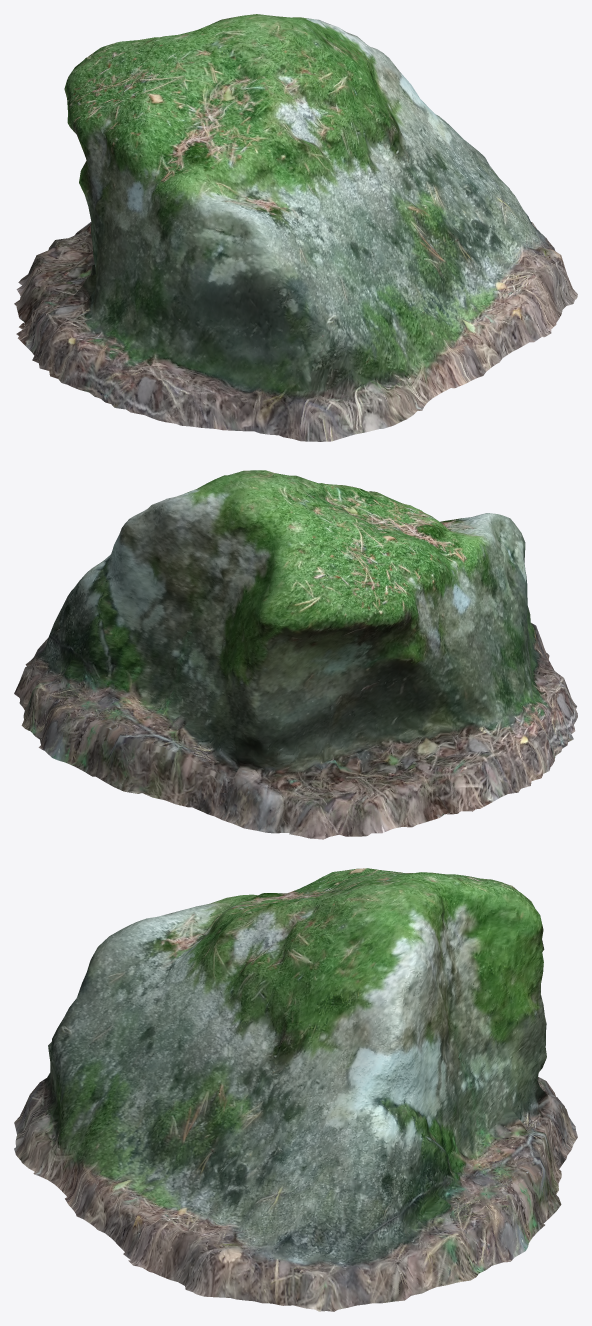
The model's file is rock.fbx.
3 renders of one model, top to bottom at view 1: azimuth 30°, elevation 25°; view 2: azimuth 150°, elevation 25°; view 3: azimuth 270°, elevation 25°, orthographic. The views are drawn at different scales.
Parts seen in each view (by area): view 1: Rock; view 2: Rock; view 3: Rock.
Boxes of the visible parts, x1,y1,x2,y2 form: Rock: [14, 14, 577, 441]; Rock: [14, 470, 577, 839]; Rock: [14, 868, 577, 1311].
Size of the model in its own units: 100 by 50 by 90.
